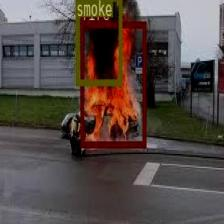fire: (80, 20, 145, 147)
smoke: (75, 0, 121, 84)
